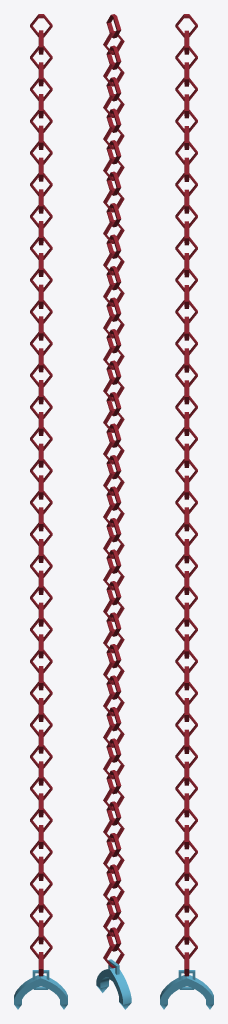
File: chaine.fbx
3 views of the same model, side by side, from view 1: azimuth 90°, elevation 25°; view 2: azimuth 210°, elevation 25°; view 3: azimuth 270°, elevation 25° (orthographic).
Visible parts, largest first — view 1: Chaine2, Box006; view 2: Chaine2, Box006; view 3: Chaine2, Box006.
Part boxes in pixels (box(x1,y1,x2,y2)): Chaine2: box(30, 14, 52, 976); Box006: box(14, 970, 67, 1009); Chaine2: box(103, 14, 124, 968); Box006: box(96, 959, 131, 1009); Chaine2: box(175, 14, 197, 976); Box006: box(160, 970, 213, 1009).
Size of the model in its own units: 177 by 8483 by 416.
